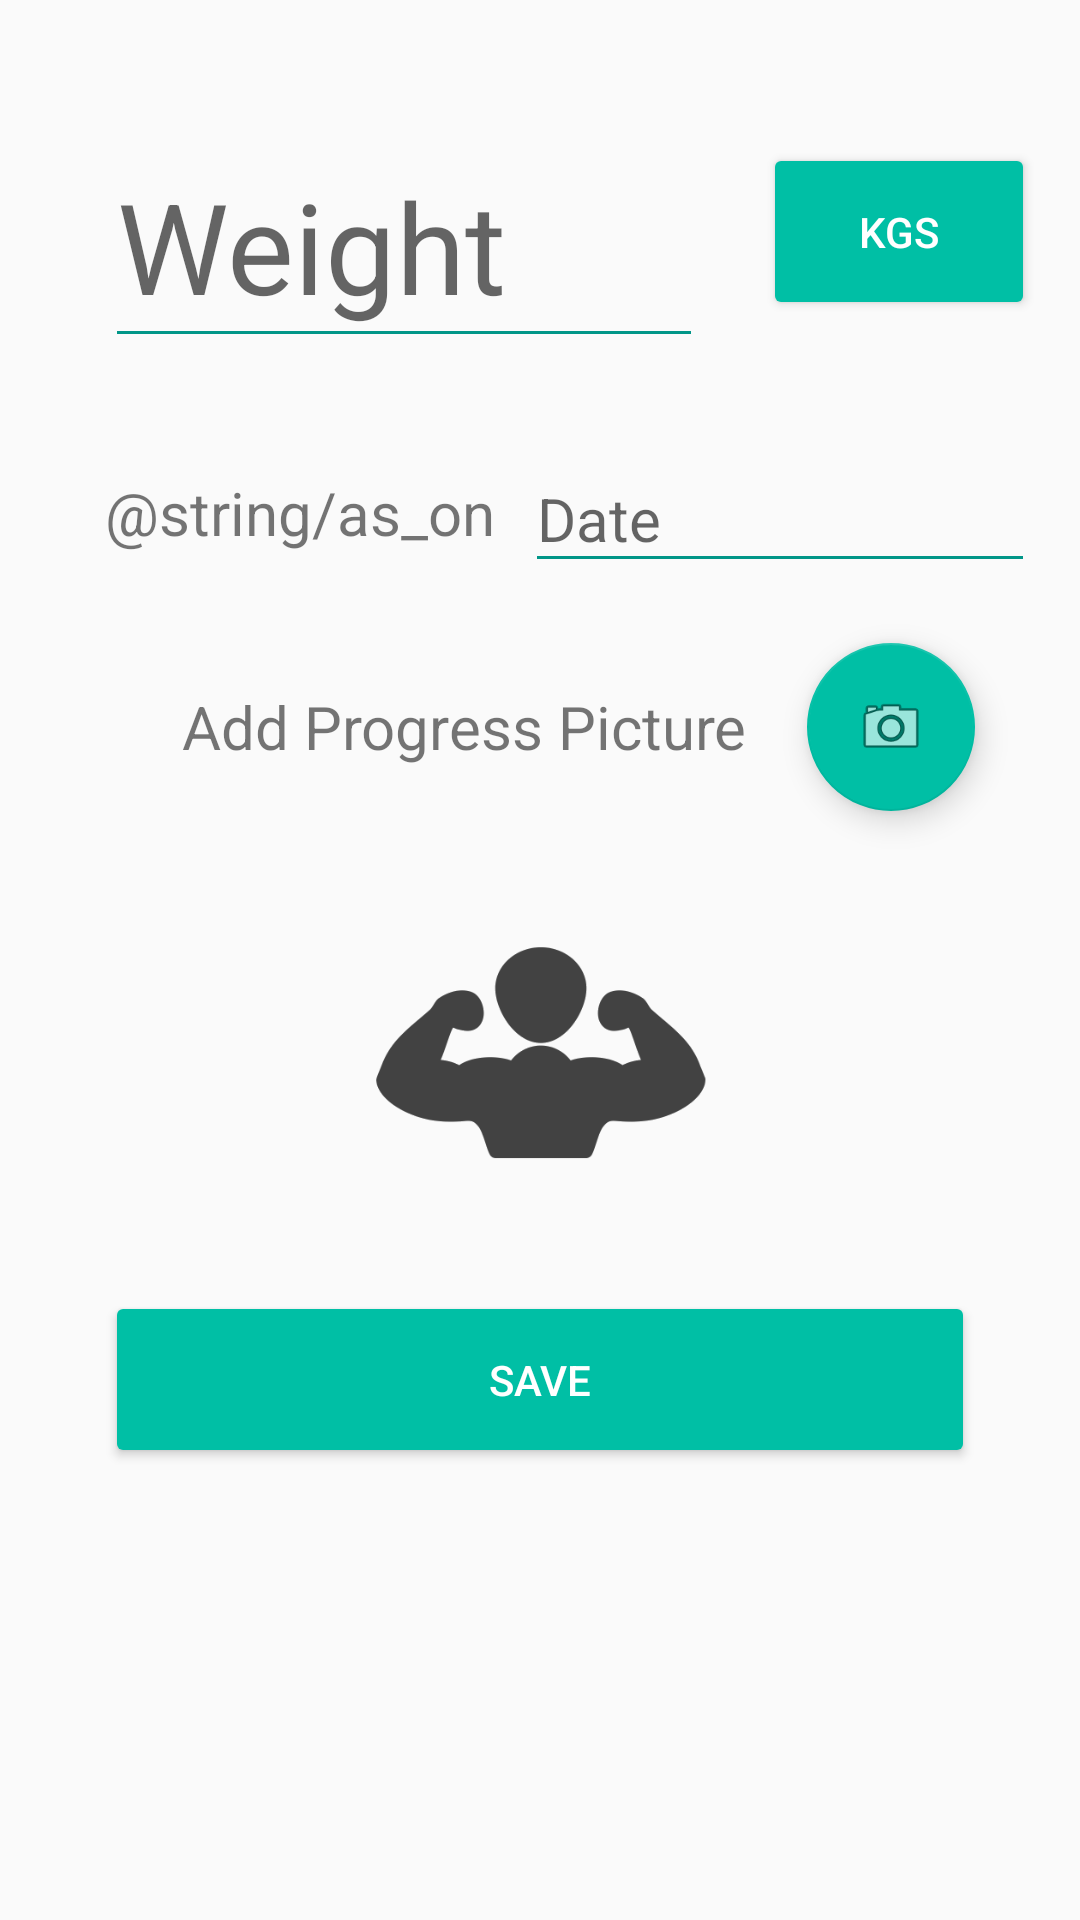

Icons on this 1080w x 1920h Android screen, each with its box as detection(x1, y1, x2, y2):
camera: detection(807, 643, 975, 811)
Progress Picture Preview: detection(376, 947, 706, 1158)
